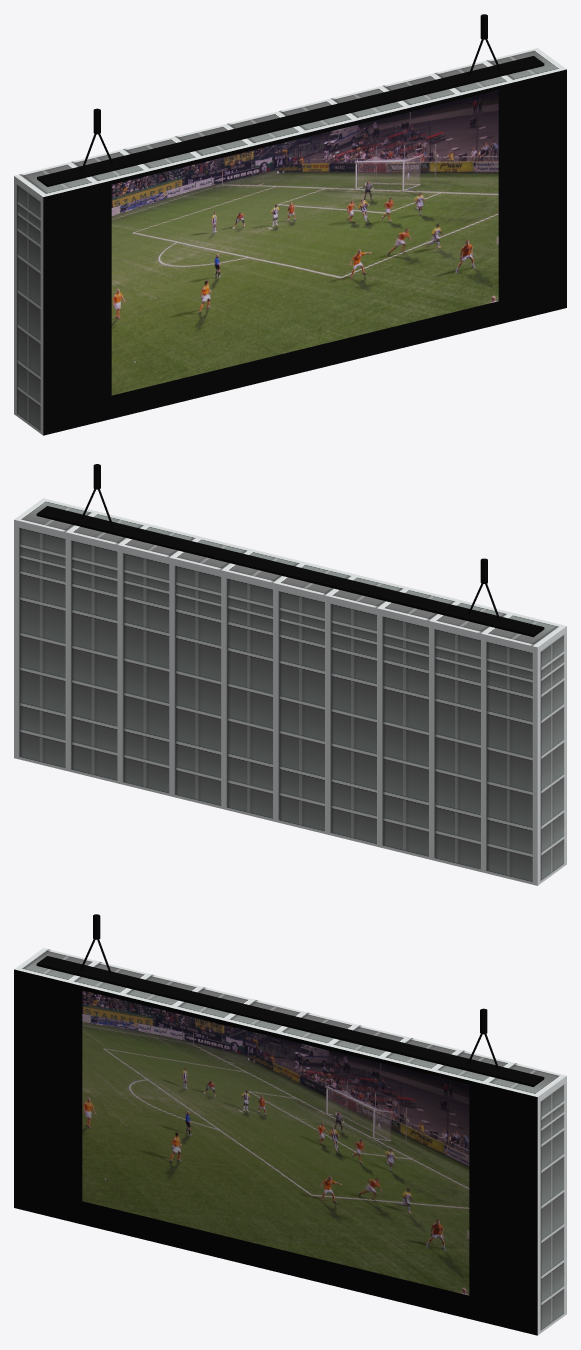
The picture shows the model from 3 angles, top to bottom: view 1: azimuth 30°, elevation 25°; view 2: azimuth 150°, elevation 25°; view 3: azimuth 330°, elevation 25°; orthographic projection.
Parts seen in each view (by area): view 1: Tv Bim; view 2: Tv Bim; view 3: Tv Bim.
Part boxes in pixels (bbox=[...]): Tv Bim: bbox=[14, 14, 566, 435]; Tv Bim: bbox=[14, 464, 566, 885]; Tv Bim: bbox=[14, 914, 566, 1335].
Size of the model in its own units: 568 by 309 by 55.08.
Materials: 3 (2 with a texture image).
